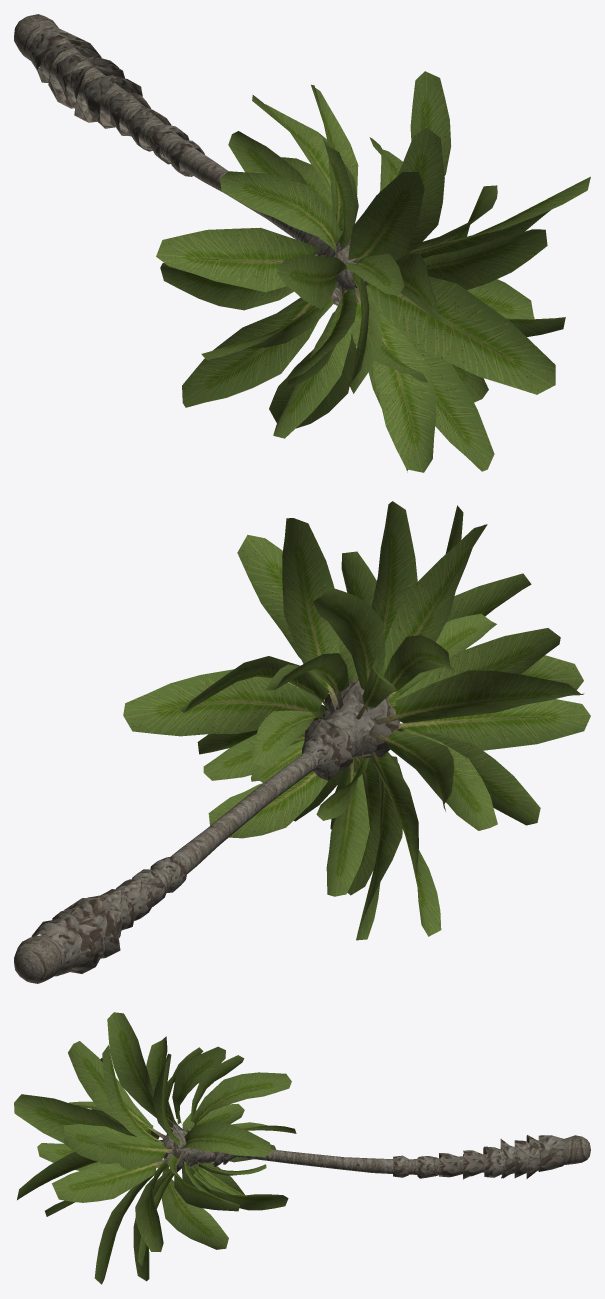
The model's file is palm_tree.glb.
3 renders of one model, top to bottom at view 1: azimuth 30°, elevation 25°; view 2: azimuth 150°, elevation 25°; view 3: azimuth 270°, elevation 25°, orthographic. The views are drawn at different scales.
Visible parts, largest first — view 1: Palm; view 2: Palm; view 3: Palm.
Boxes of the visible parts, x1=… form: Palm: x1=14, y1=14, x2=590, y2=472; Palm: x1=14, y1=501, x2=590, y2=983; Palm: x1=14, y1=1012, x2=590, y2=1284.
Size of the model in its own units: 7.9 by 7.19 by 15.78.
1 material, 1 textured.
